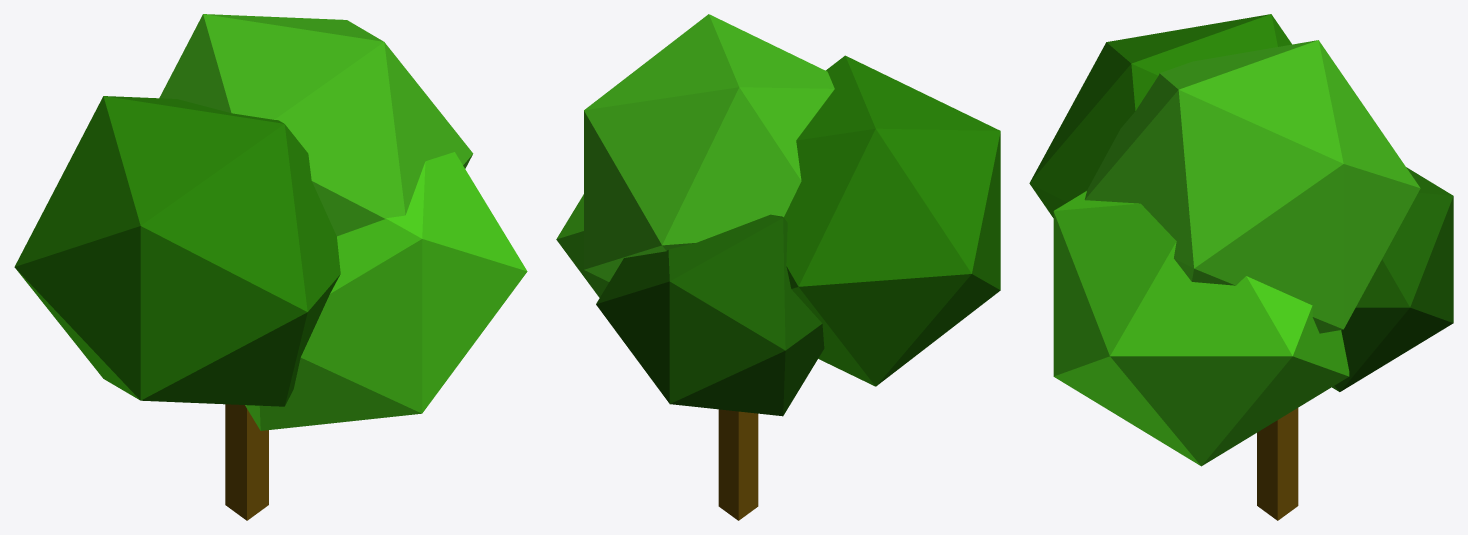
The model's file is tree2.fbx.
3 views of the same model, side by side, from view 1: azimuth 30°, elevation 25°; view 2: azimuth 150°, elevation 25°; view 3: azimuth 270°, elevation 25° (orthographic). The views are drawn at different scales.
Parts seen in each view (by area): view 1: Platonischer_Körper_1, Platonischer_Körper_1_2, Platonischer_Körper, Zylinder; view 2: Platonischer_Körper_1, Platonischer_Körper, Platonischer_Körper_2, Zylinder, Platonischer_Körper_1_2; view 3: Platonischer_Körper, Platonischer_Körper_1_2, Platonischer_Körper_1, Platonischer_Körper_2, Zylinder.
Boxes of the visible parts, x1=… form: Platonischer_Körper_1: x1=14, y1=96, x2=340, y2=406; Platonischer_Körper_1_2: x1=245, y1=152, x2=527, y2=430; Platonischer_Körper: x1=159, y1=14, x2=473, y2=236; Zylinder: x1=225, y1=404, x2=268, y2=520; Platonischer_Körper_1: x1=784, y1=55, x2=1000, y2=386; Platonischer_Körper: x1=584, y1=14, x2=834, y2=281; Platonischer_Körper_2: x1=596, y1=214, x2=824, y2=416; Zylinder: x1=718, y1=409, x2=758, y2=520; Platonischer_Körper_1_2: x1=556, y1=194, x2=609, y2=297; Platonischer_Körper: x1=1084, y1=40, x2=1420, y2=333; Platonischer_Körper_1_2: x1=1053, y1=191, x2=1349, y2=466; Platonischer_Körper_1: x1=1029, y1=14, x2=1291, y2=217; Platonischer_Körper_2: x1=1332, y1=167, x2=1453, y2=391; Zylinder: x1=1257, y1=408, x2=1298, y2=520.
Size of the model in its own units: 999 by 1064 by 888.
